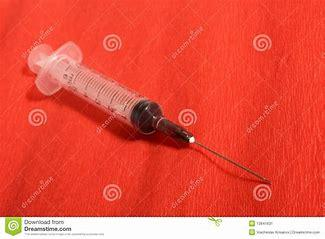Syringe: (21, 37, 262, 179)
